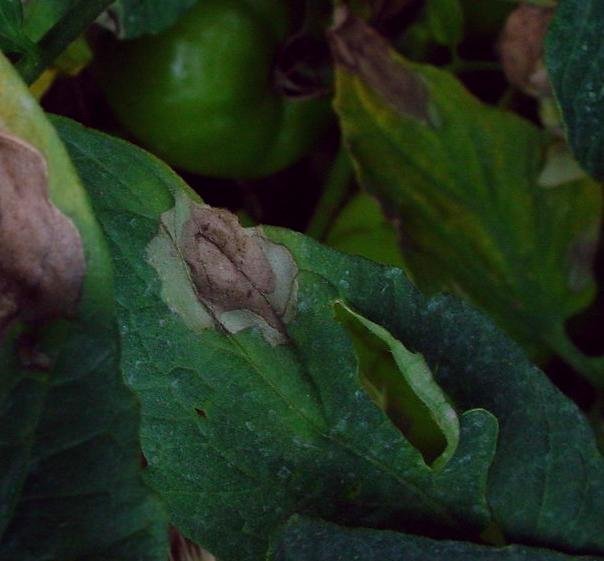Tomato leaf late blight: (75, 155, 603, 552)
